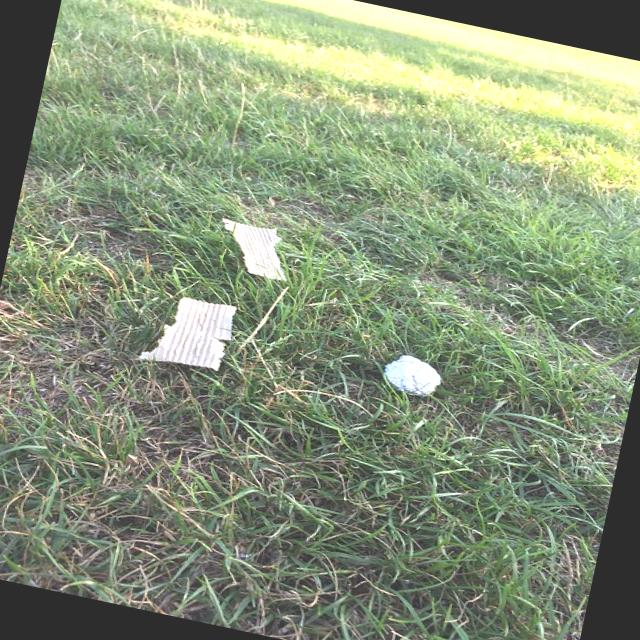Recycle: (140, 286, 242, 374), (208, 208, 304, 284), (381, 348, 450, 404)
